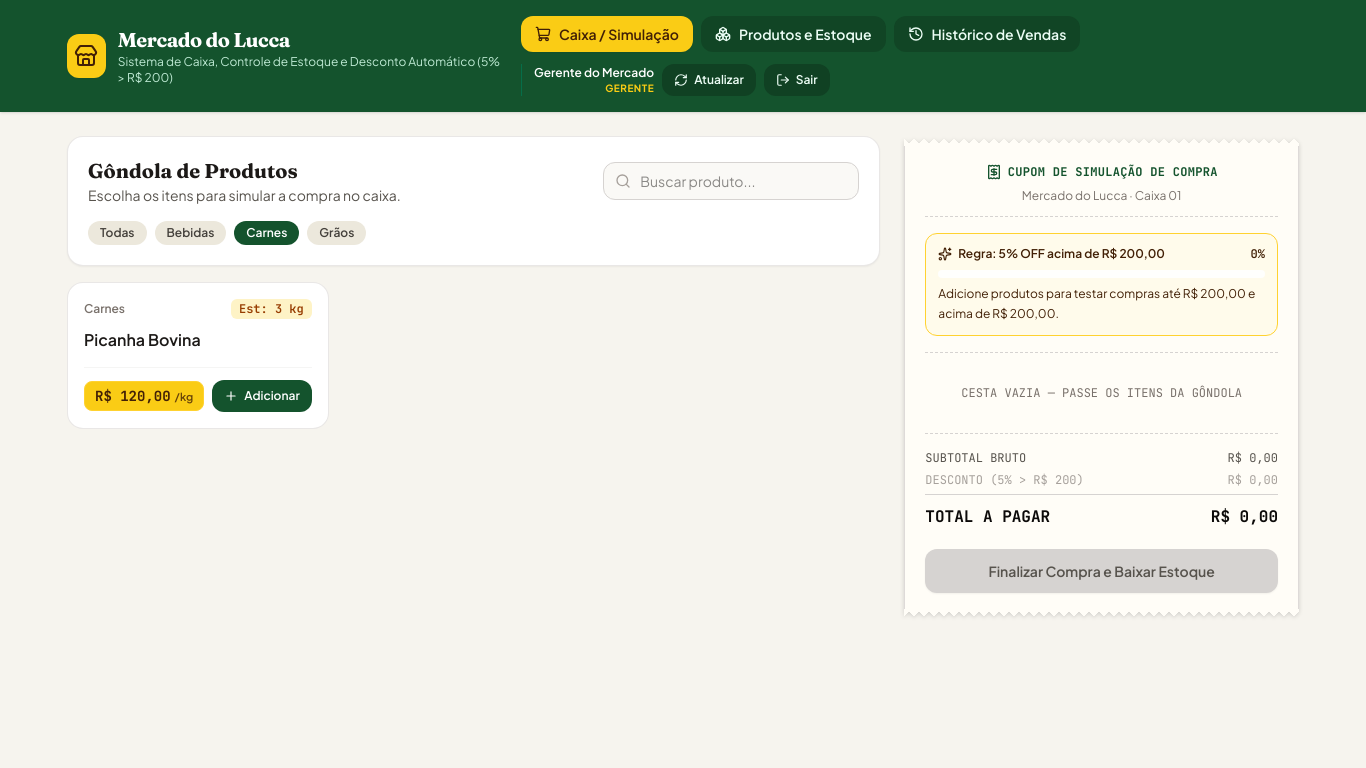
Scenario: Mercado do Lucca — Fluxos completos com Auth e RBAC › filtra gôndola, manipula cesta, aplica 5% OFF e finaliza compra
The width and height of the screenshot is (1366, 768).
Earlier steps of the test are not shown.
Later steps or results of the test are not shown.
Expected: the heading "Arroz Tipo 1" is not shown
Type "inexistente" into the search field with placeholder "Buscar produto..." at (731, 181), box [603,162,859,200]
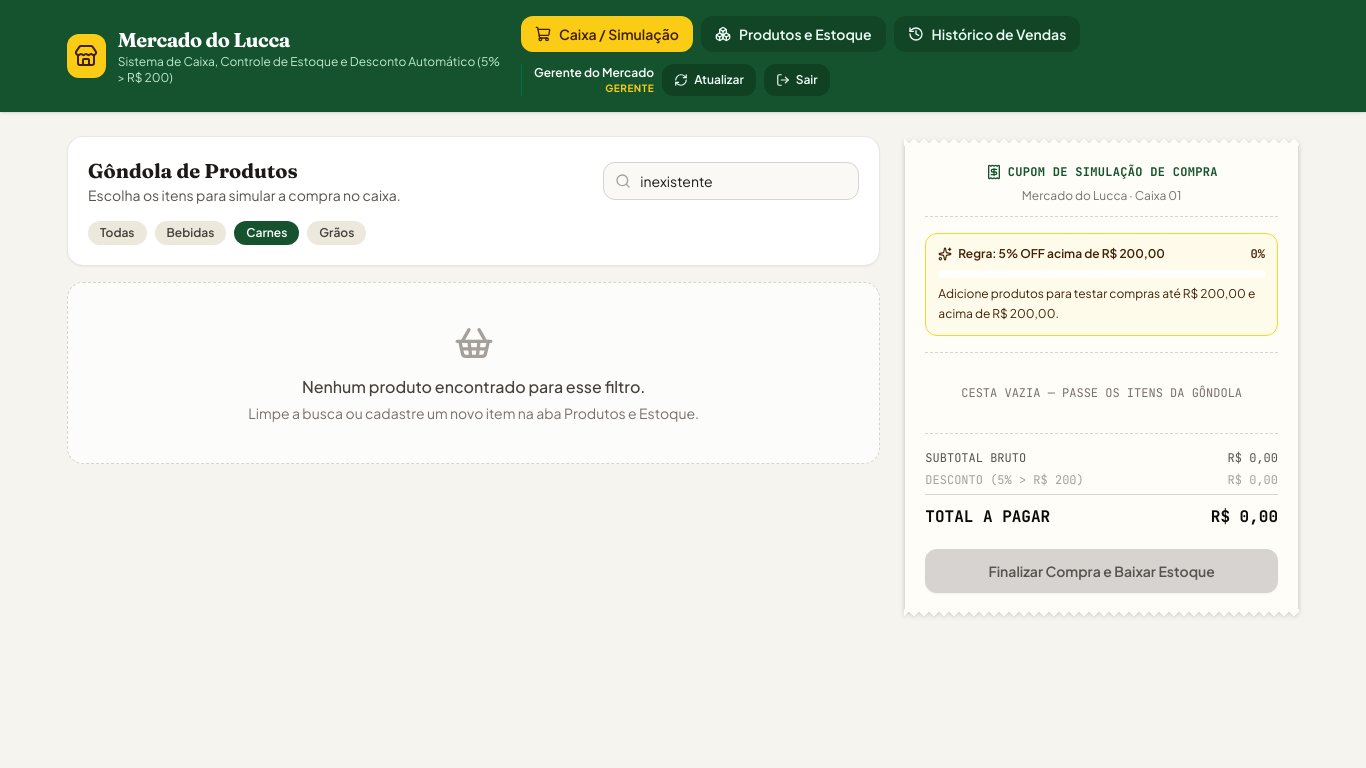
Expected: the text "Nenhum produto encontrado para esse filtro." is shown, [302,376,645,397]
Clear the search field with placeholder "Buscar produto..." at (731, 181), box [603,162,859,200]
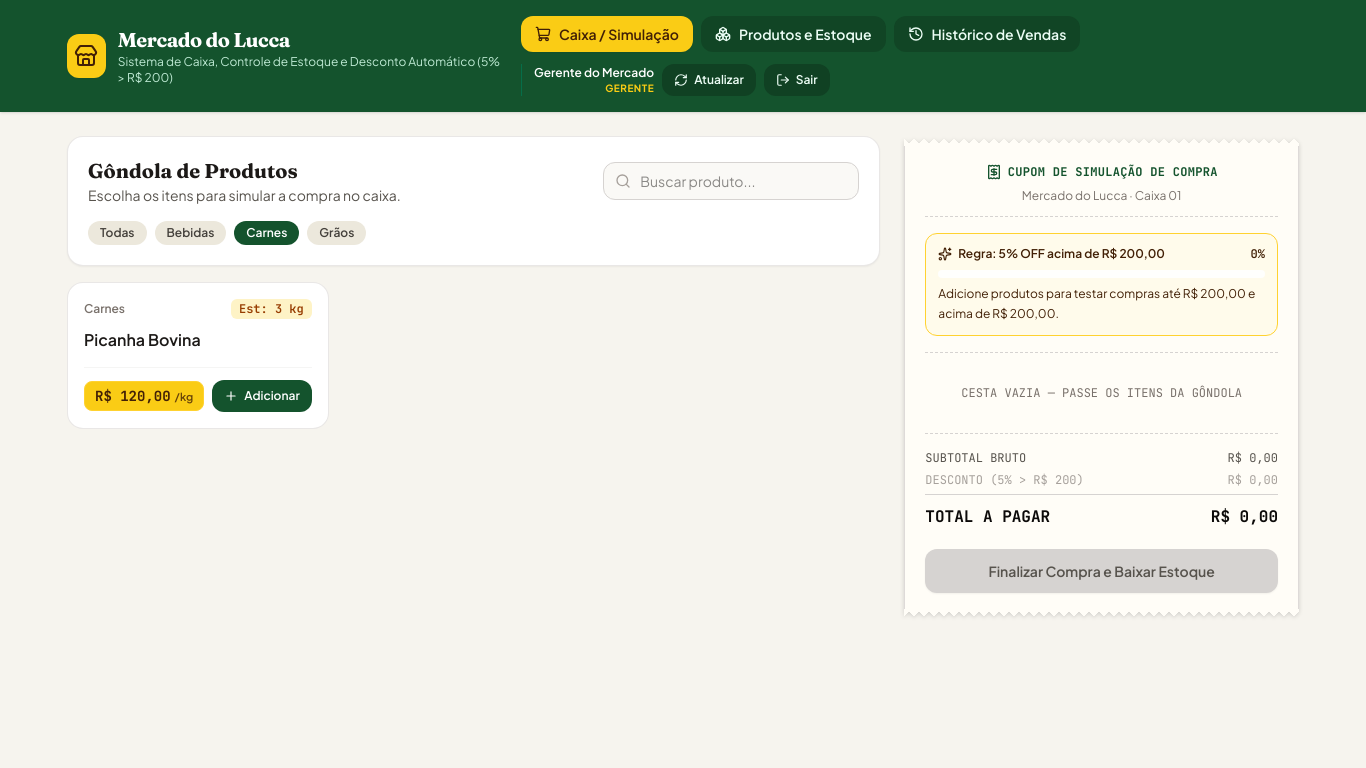
Click the button "Todas" at (117, 233), box [88,221,146,245]
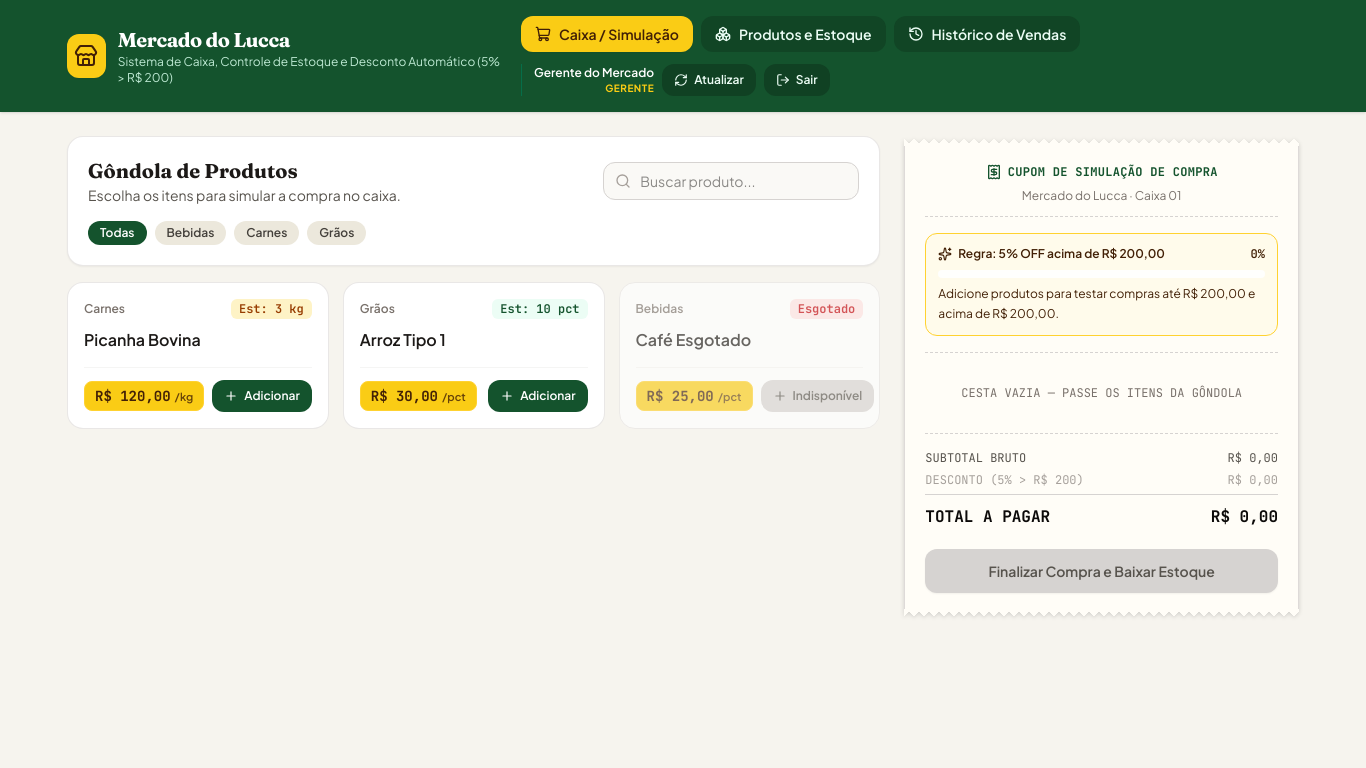
Click the button "Adicionar" in the row of "R$ 120,00" at (262, 396), box [212,380,312,412]
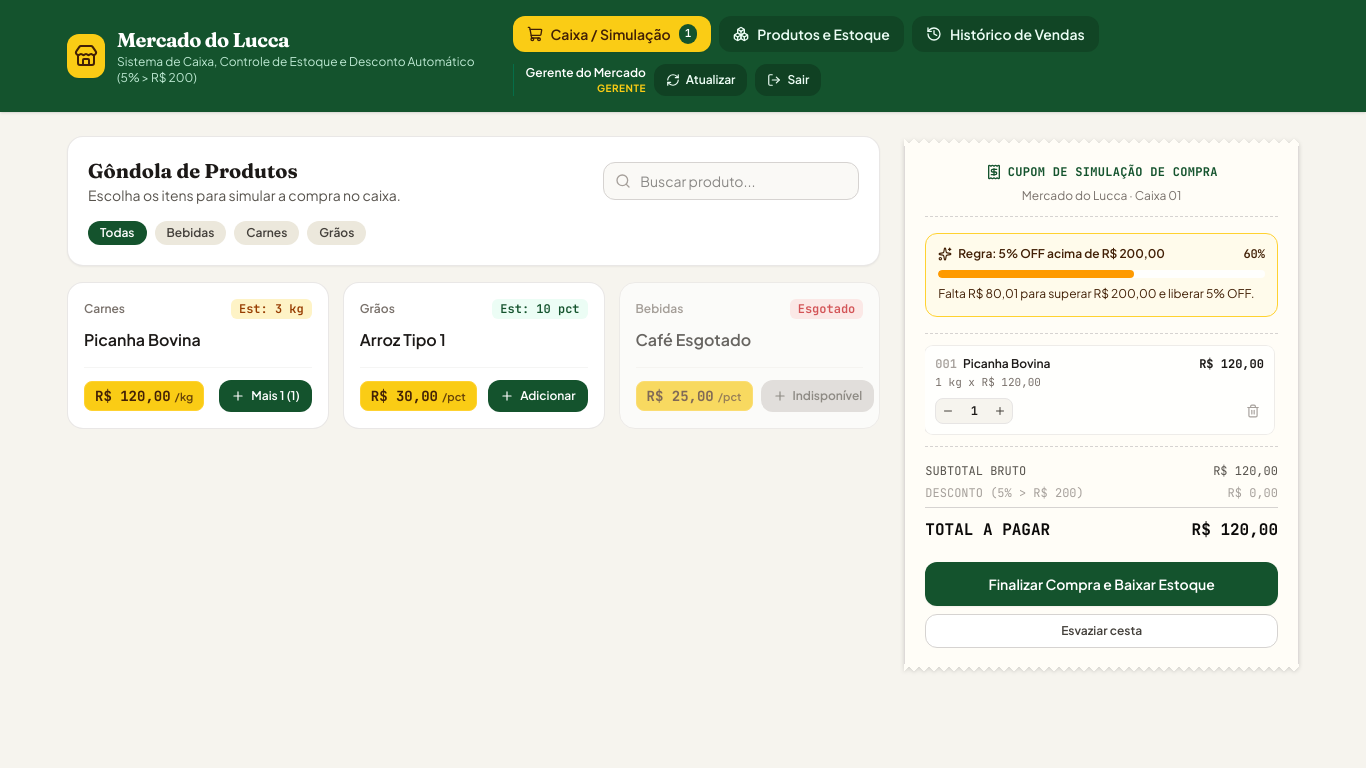
Expected: the text "Falta R$ 80,01 para superar R$ 200,00 e liberar 5% OFF." is shown, [938,284,1265,304]
Click the button "Mais 1 (1)" at (265, 396), box [219,380,312,412]
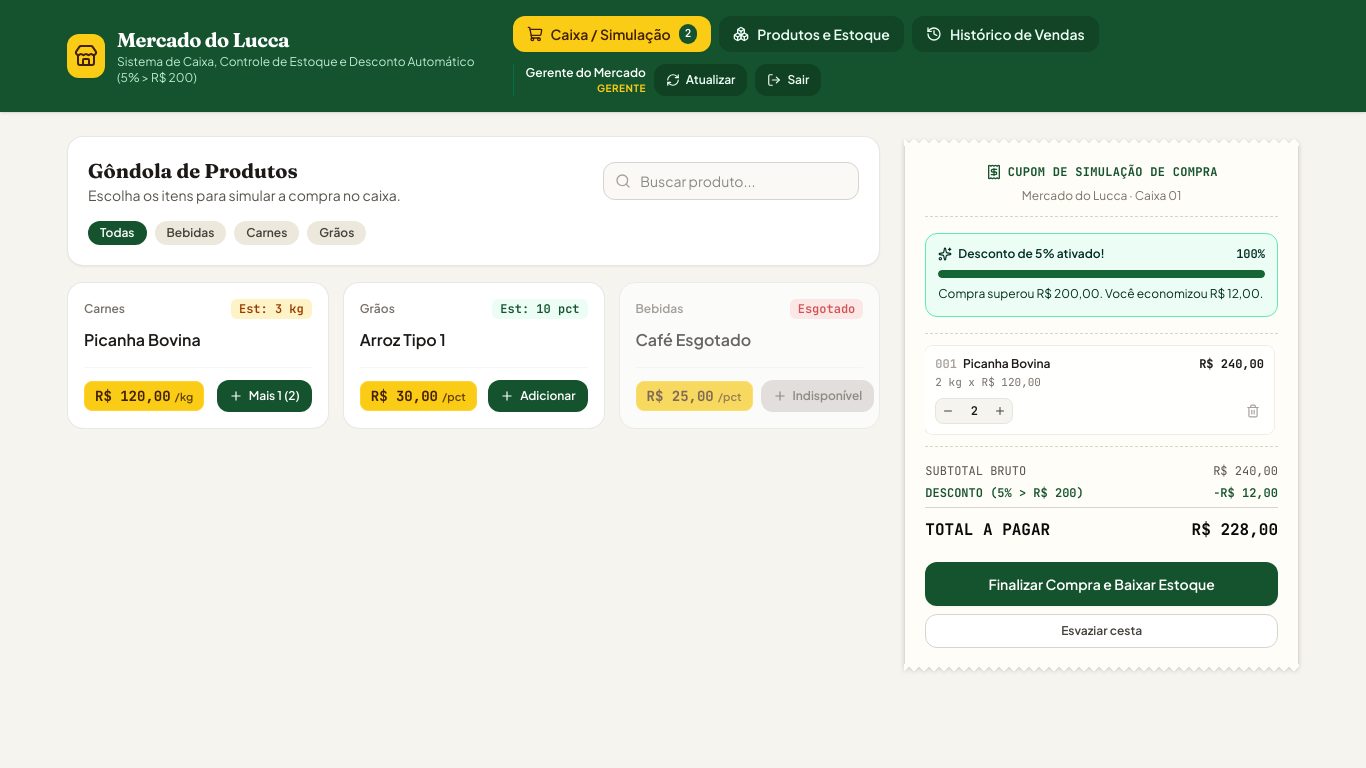
Expected: the text "Desconto de 5% ativado!" is shown, [938,246,1105,262]
Click the button named "Aumentar quantidade de Picanha Bovina" at (1000, 411), box [990,401,1010,421]
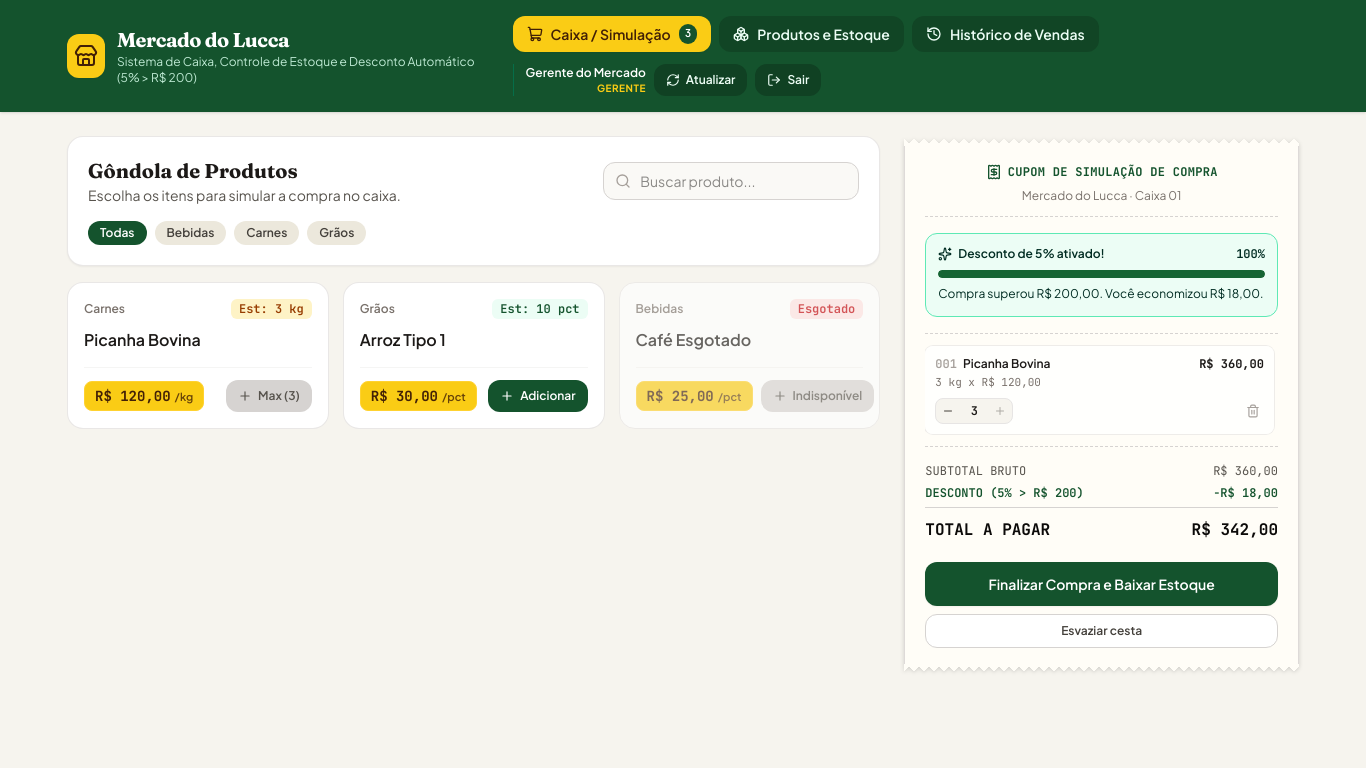
Expected: the button "Max (3)" is disabled, [226,380,312,412]
